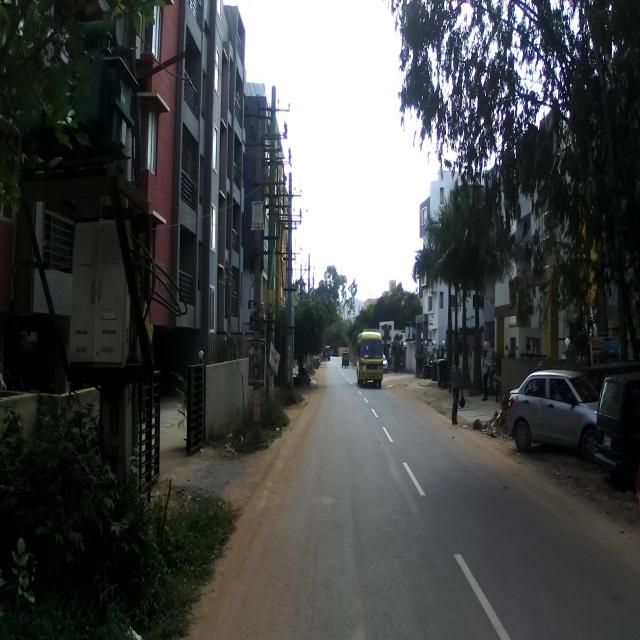bus: (355, 327, 384, 387)
car: (506, 369, 600, 464)
